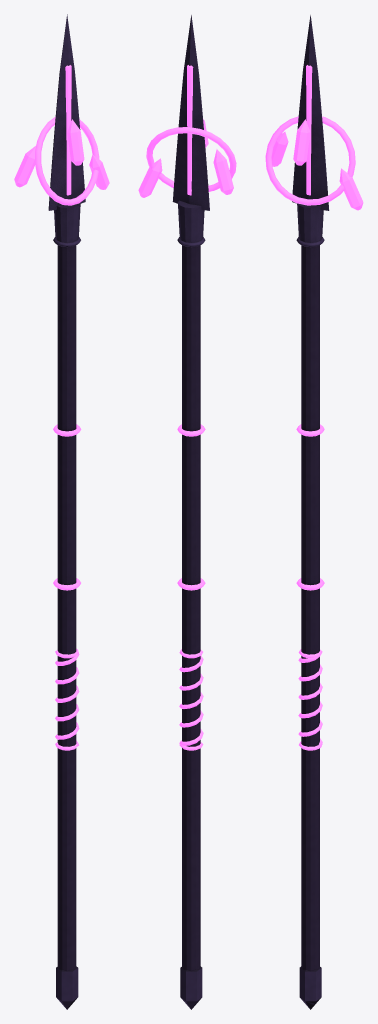
Rendered from 12_void_spear.fbx.
3 renders of one model, left to right at view 1: azimuth 30°, elevation 25°; view 2: azimuth 150°, elevation 25°; view 3: azimuth 330°, elevation 25°, orthographic.
Visible parts, largest first — view 1: Weapon; view 2: Weapon; view 3: Weapon.
Boxes of the visible parts, left/top/right/bottom form: Weapon: left=14, top=14, right=109, bottom=1009; Weapon: left=138, top=15, right=236, bottom=1009; Weapon: left=265, top=15, right=363, bottom=1009.
Size of the model in its own units: 21.77 by 224 by 10.4.
Materials: 2 (1 with a texture image).
